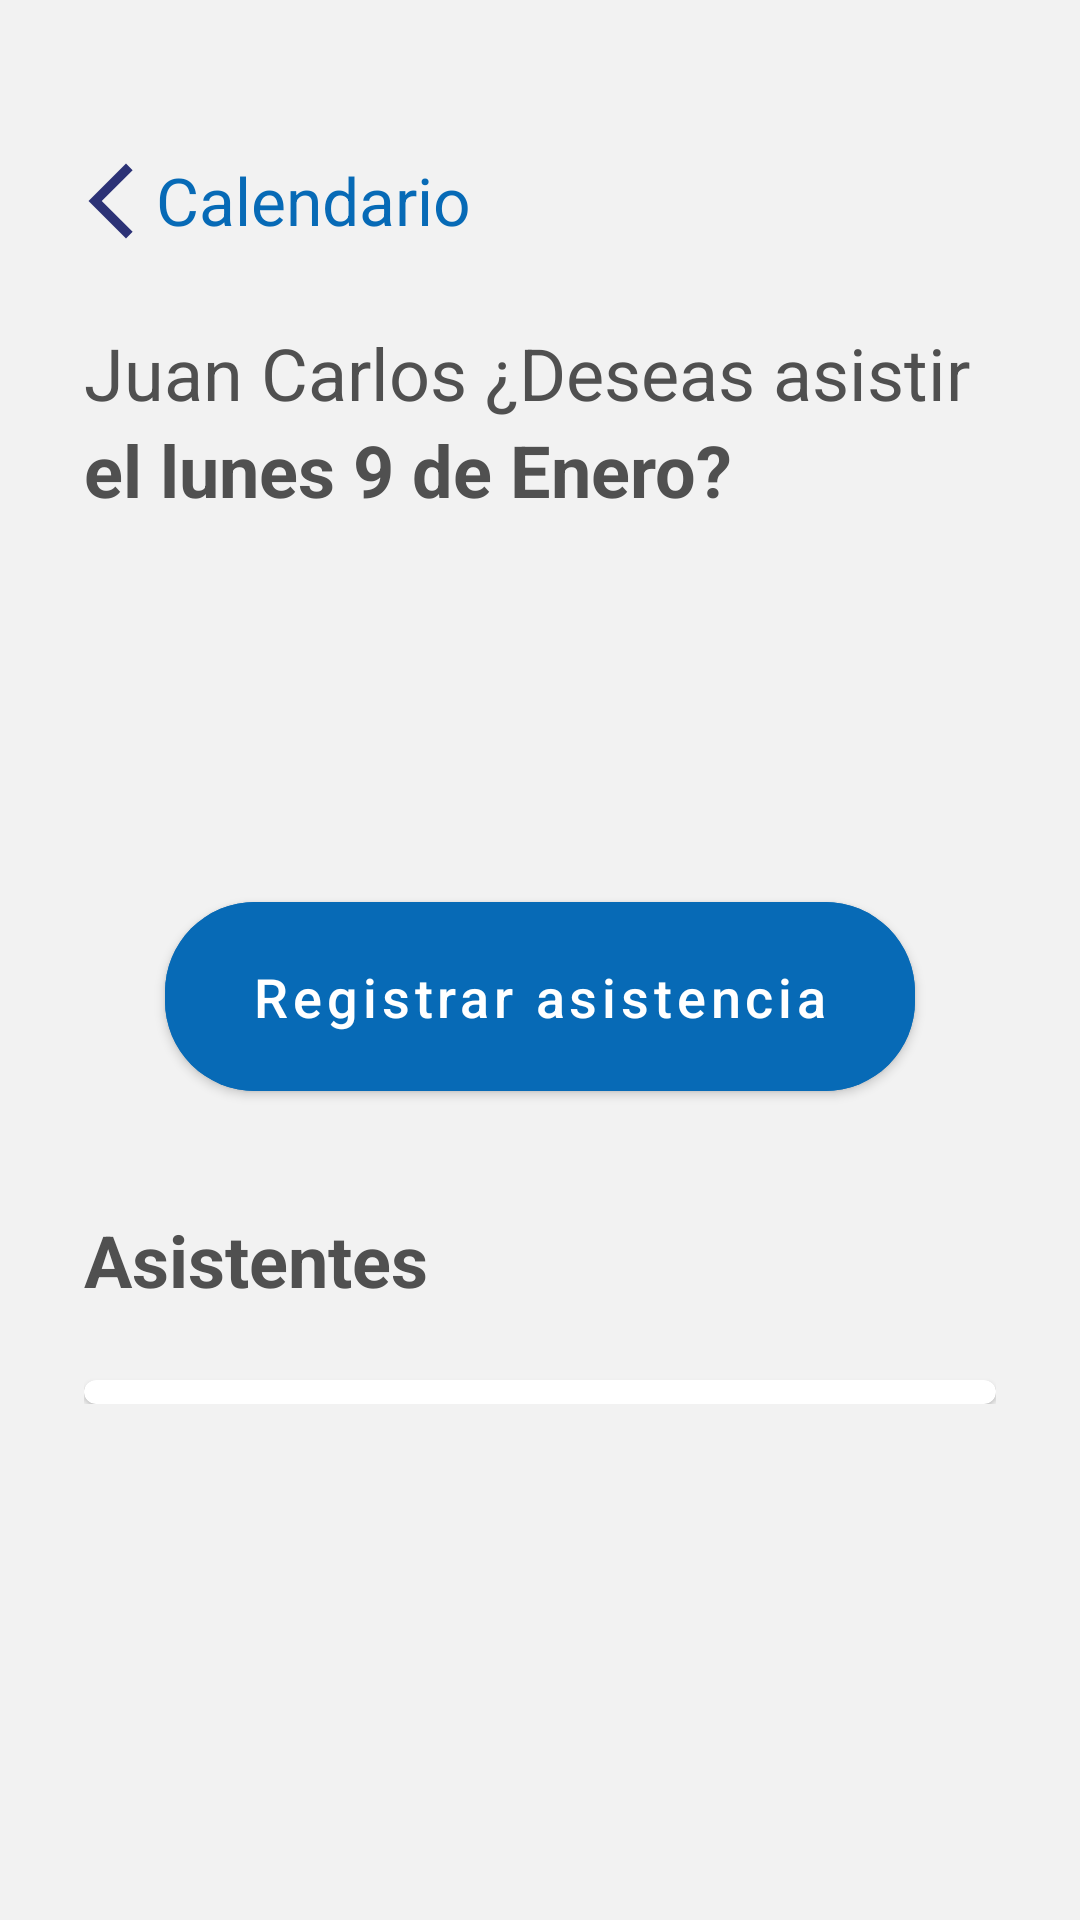

Screen size 1080x1920. Icon name, then its box in pixels as (x1, y1, x2, y2):
back: (89, 163, 133, 239)
